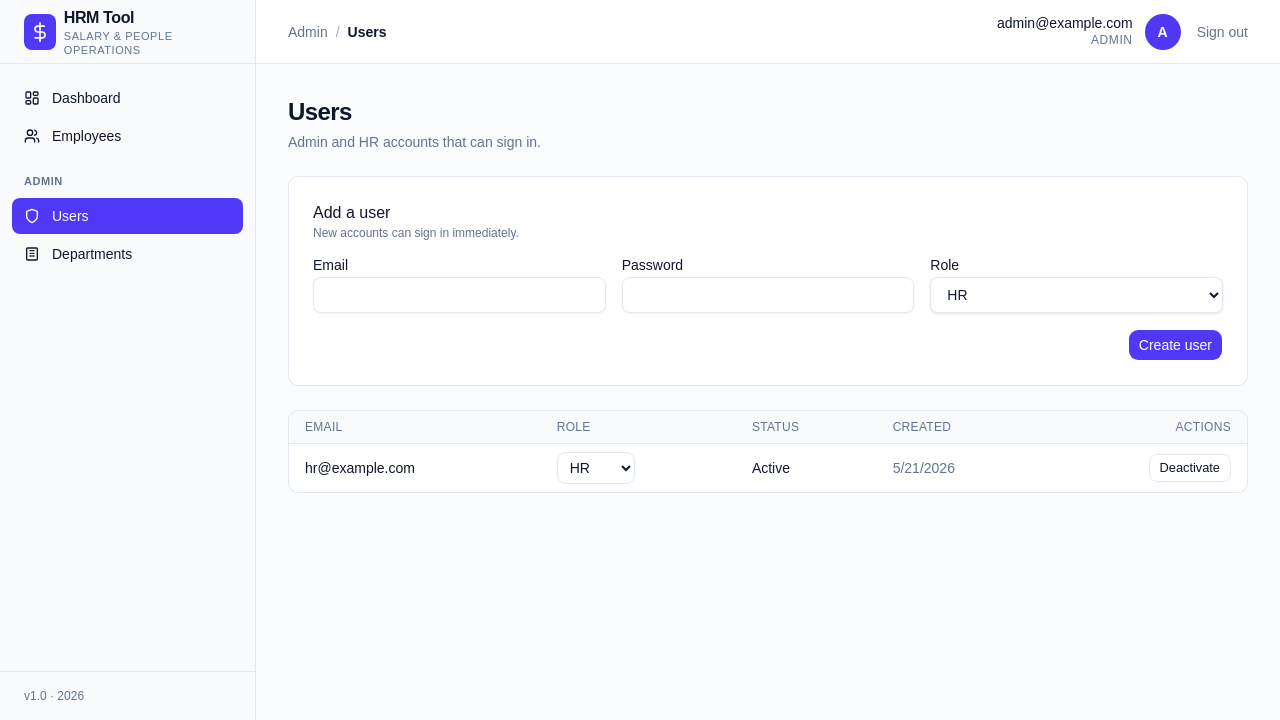
Test: UsersPage › deactivates a user via a row action and refreshes the list
Expected: the text "hr@example.com" is shown, [289, 444, 541, 492]
Click the button with aria-label "deactivate hr@example.com". click: [1190, 468]
box: [1148, 454, 1231, 482]
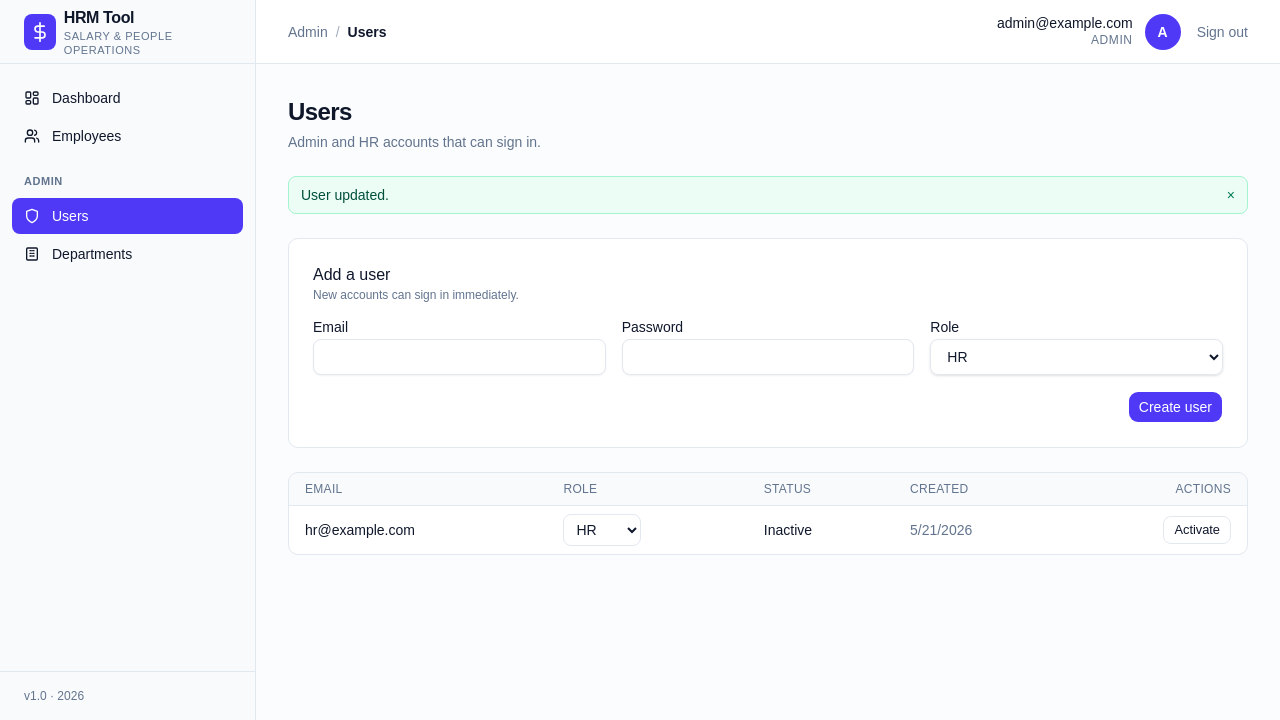
Now the text "Inactive" is shown, box [748, 506, 894, 554]
